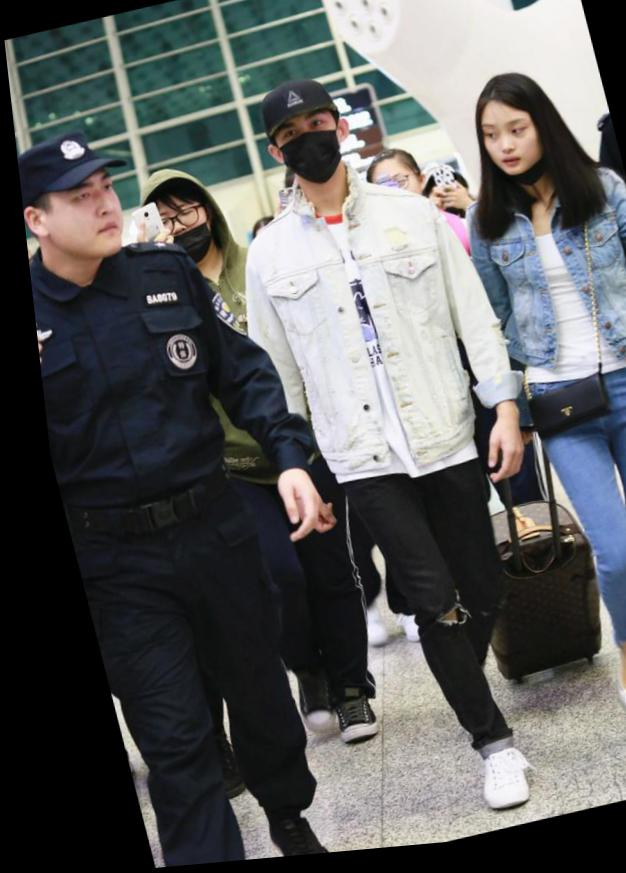NONE: (43, 165, 127, 269), (473, 110, 544, 192)
OK: (265, 109, 347, 196)
WRONG: (140, 193, 213, 274)
